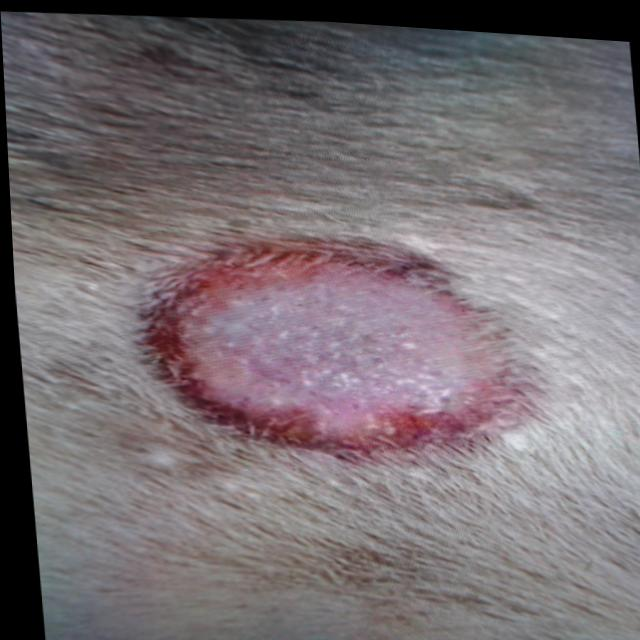ringworm: (113, 212, 546, 470)
